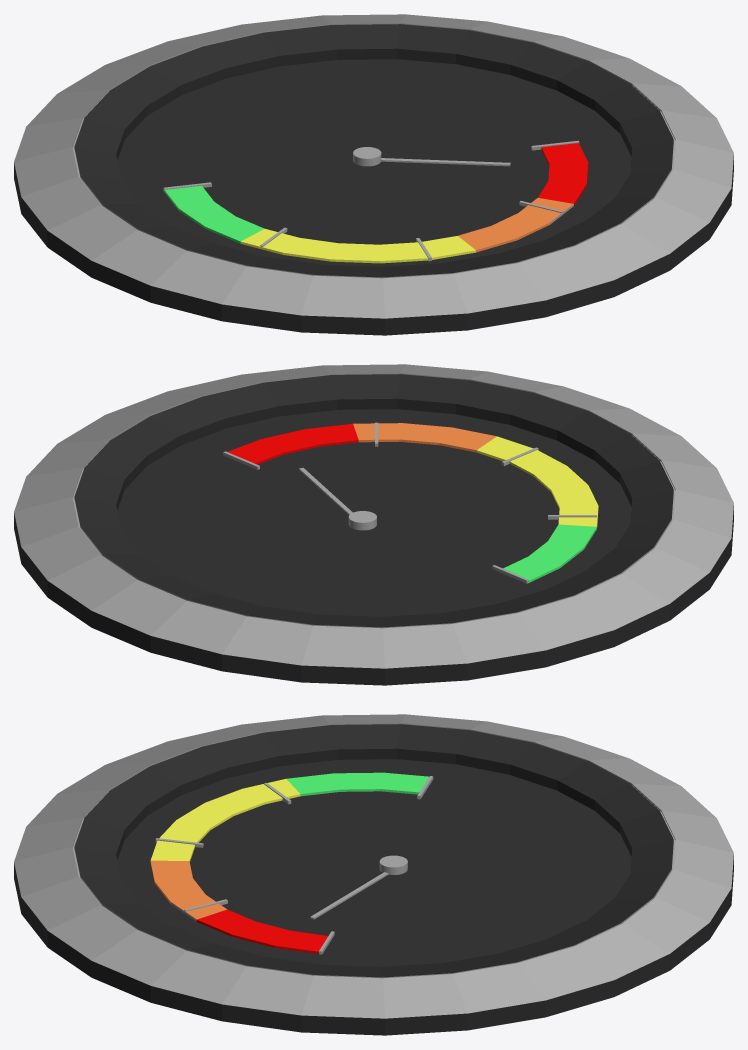
File: Speedometer.glb
3 views of the same model, one above another, from view 1: azimuth 30°, elevation 25°; view 2: azimuth 150°, elevation 25°; view 3: azimuth 270°, elevation 25° (orthographic).
Parts seen in each view (by area): view 1: Cylinder004, Cylinder005, Box20186; view 2: Cylinder004, Cylinder005; view 3: Cylinder004, Cylinder005.
Boxes of the visible parts, box(x1,y1,x2,y2) form: Cylinder004: box(14, 14, 733, 335); Cylinder005: box(163, 143, 588, 263); Box20186: box(381, 158, 510, 166); Cylinder004: box(14, 364, 733, 685); Cylinder005: box(227, 423, 598, 583); Cylinder004: box(14, 714, 733, 1035); Cylinder005: box(150, 772, 428, 953).
Size of the model in its own units: 39205 by 1959 by 39205.
